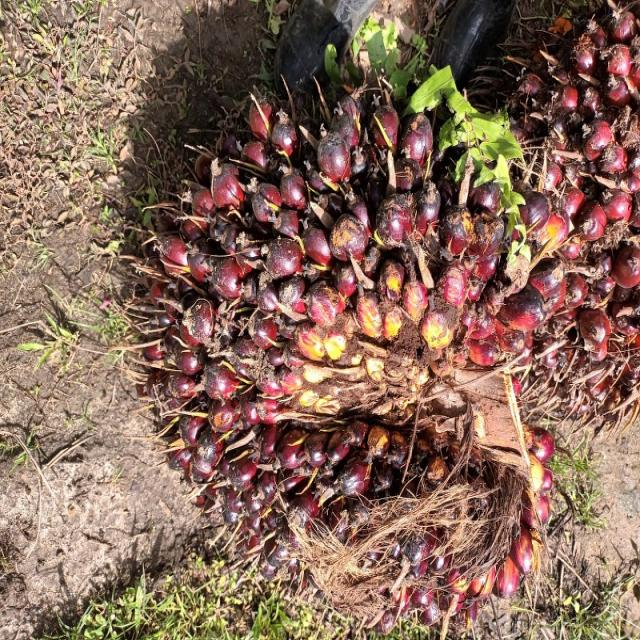fraksi 1: (49, 136, 443, 640)
